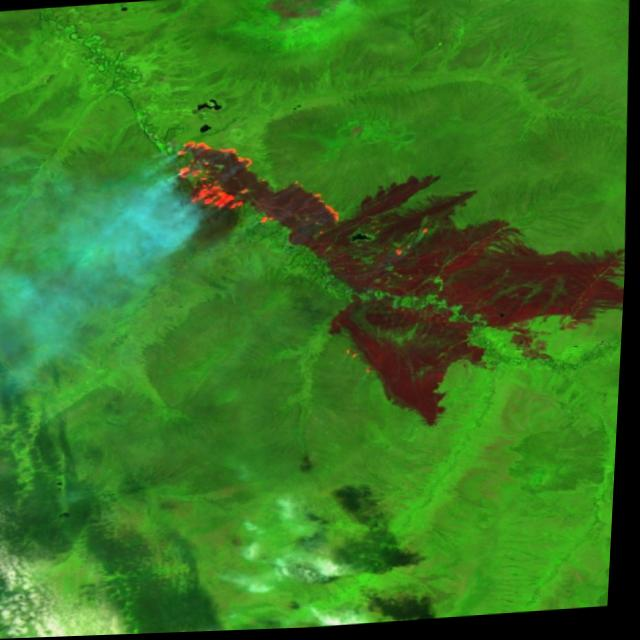fire: (164, 130, 352, 252)
